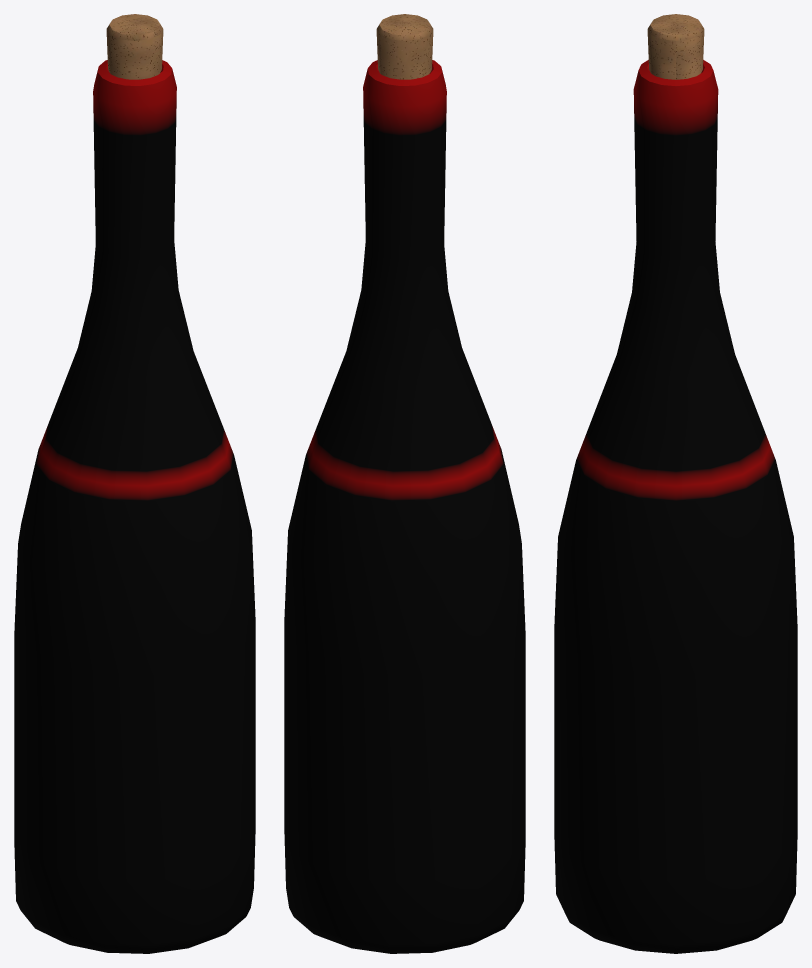
The model's file is bottle.glb.
The picture shows the model from 3 angles, left to right: view 1: azimuth 30°, elevation 25°; view 2: azimuth 150°, elevation 25°; view 3: azimuth 270°, elevation 25°; orthographic projection.
Parts seen in each view (by area): view 1: Bottle_Glass, Bottle_Contents; view 2: Bottle_Glass, Bottle_Contents; view 3: Bottle_Glass, Bottle_Contents.
Boxes of the visible parts, x1,y1,x2,y2 form: Bottle_Glass: (14,60,255,953); Bottle_Contents: (106,14,163,79); Bottle_Glass: (284,60,525,953); Bottle_Contents: (376,14,433,79); Bottle_Glass: (554,60,797,953); Bottle_Contents: (647,14,704,79).
Size of the model in its own units: 0.1745 by 0.7 by 0.1745.
Materials: 2 (1 with a texture image).
